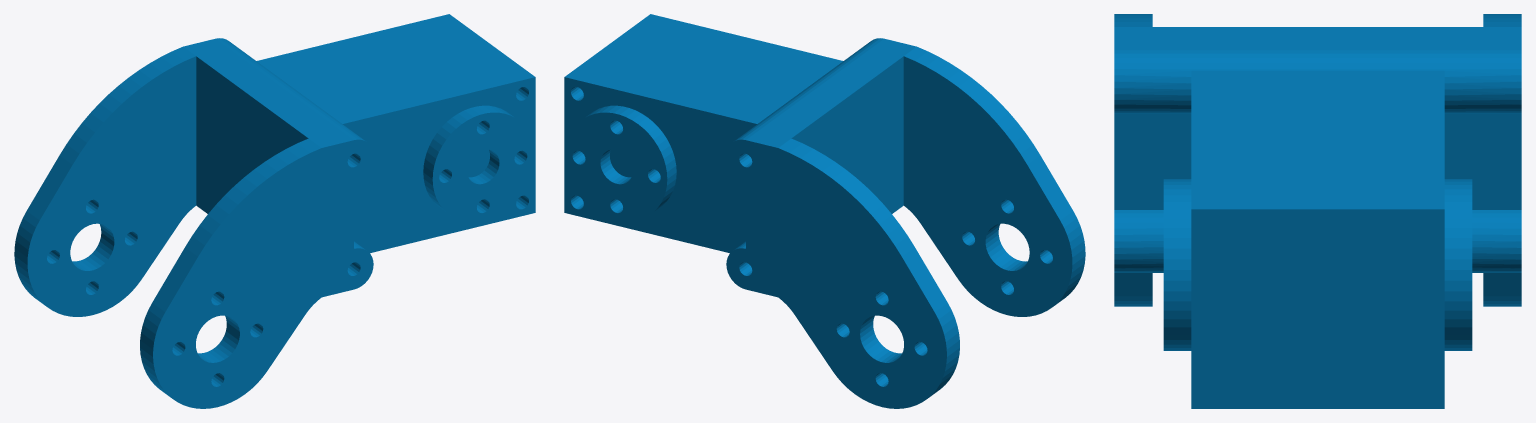
The model's file is hexy_urdf_v2_7_Femur_6_vis_1.dae.
3 renders of one model, left to right at view 1: azimuth 30°, elevation 25°; view 2: azimuth 150°, elevation 25°; view 3: azimuth 270°, elevation 25°, orthographic. The views are drawn at different scales.
Parts seen in each view (by area): view 1: node; view 2: node; view 3: node.
Boxes of the visible parts, x1=… form: node: x1=14, y1=14, x2=535, y2=408; node: x1=564, y1=14, x2=1085, y2=408; node: x1=1114, y1=14, x2=1521, y2=408.
Bounding box in the file's own units: 0.315 × 0.1721 × 0.185.
